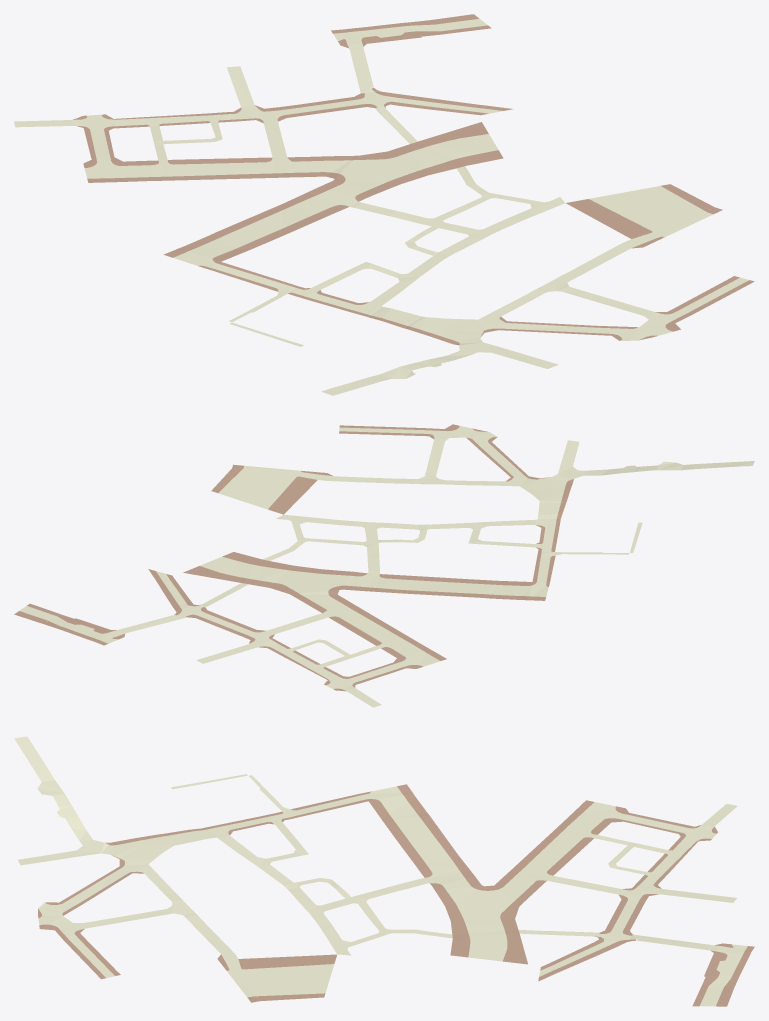
File: data72.glb
3 views of the same model, one above another, from view 1: azimuth 30°, elevation 25°; view 2: azimuth 150°, elevation 25°; view 3: azimuth 270°, elevation 25° (orthographic). The views are drawn at different scales.
Bounding box in the file's own units: 254 × 17.3 × 333.
